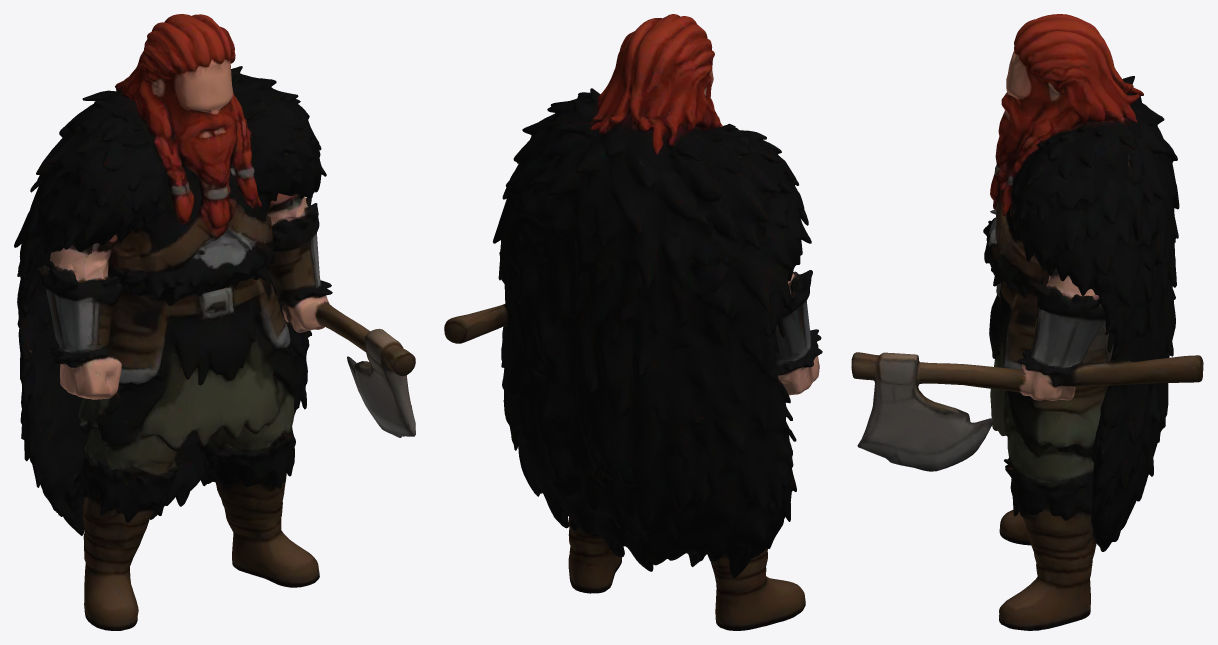
File: barbarian-optimized.glb
3 renders of one model, left to right at view 1: azimuth 30°, elevation 25°; view 2: azimuth 150°, elevation 25°; view 3: azimuth 270°, elevation 25°, orthographic. The views are drawn at different scales.
Visible parts, largest first — view 1: world; view 2: world; view 3: world.
Part boxes in pixels (<box>): world: <box>14,14,415,630</box>; world: <box>444,14,822,630</box>; world: <box>851,14,1203,630</box>.
Bounding box in the file's own units: 0.545 × 0.9999 × 0.5698.
1 material, 1 textured.
